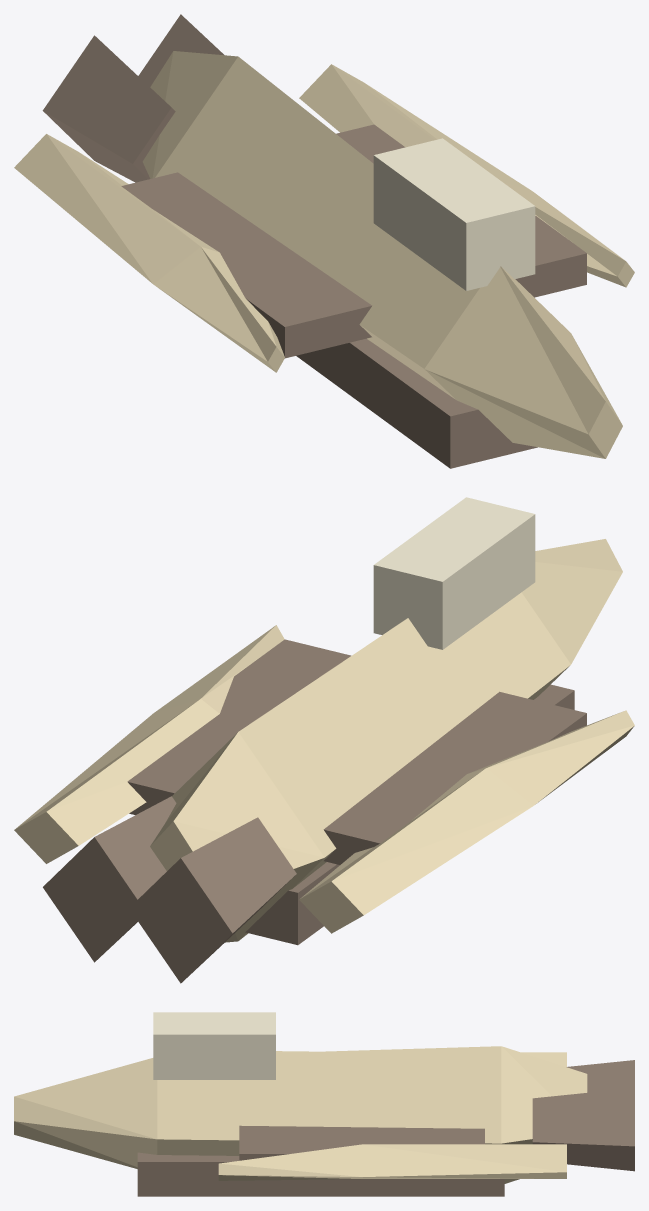
3 renders of one model, top to bottom at view 1: azimuth 30°, elevation 25°; view 2: azimuth 150°, elevation 25°; view 3: azimuth 270°, elevation 25°, orthographic. The views are drawn at different scales.
Size of the model in its own units: 3.1 by 1.9 by 6.61.
